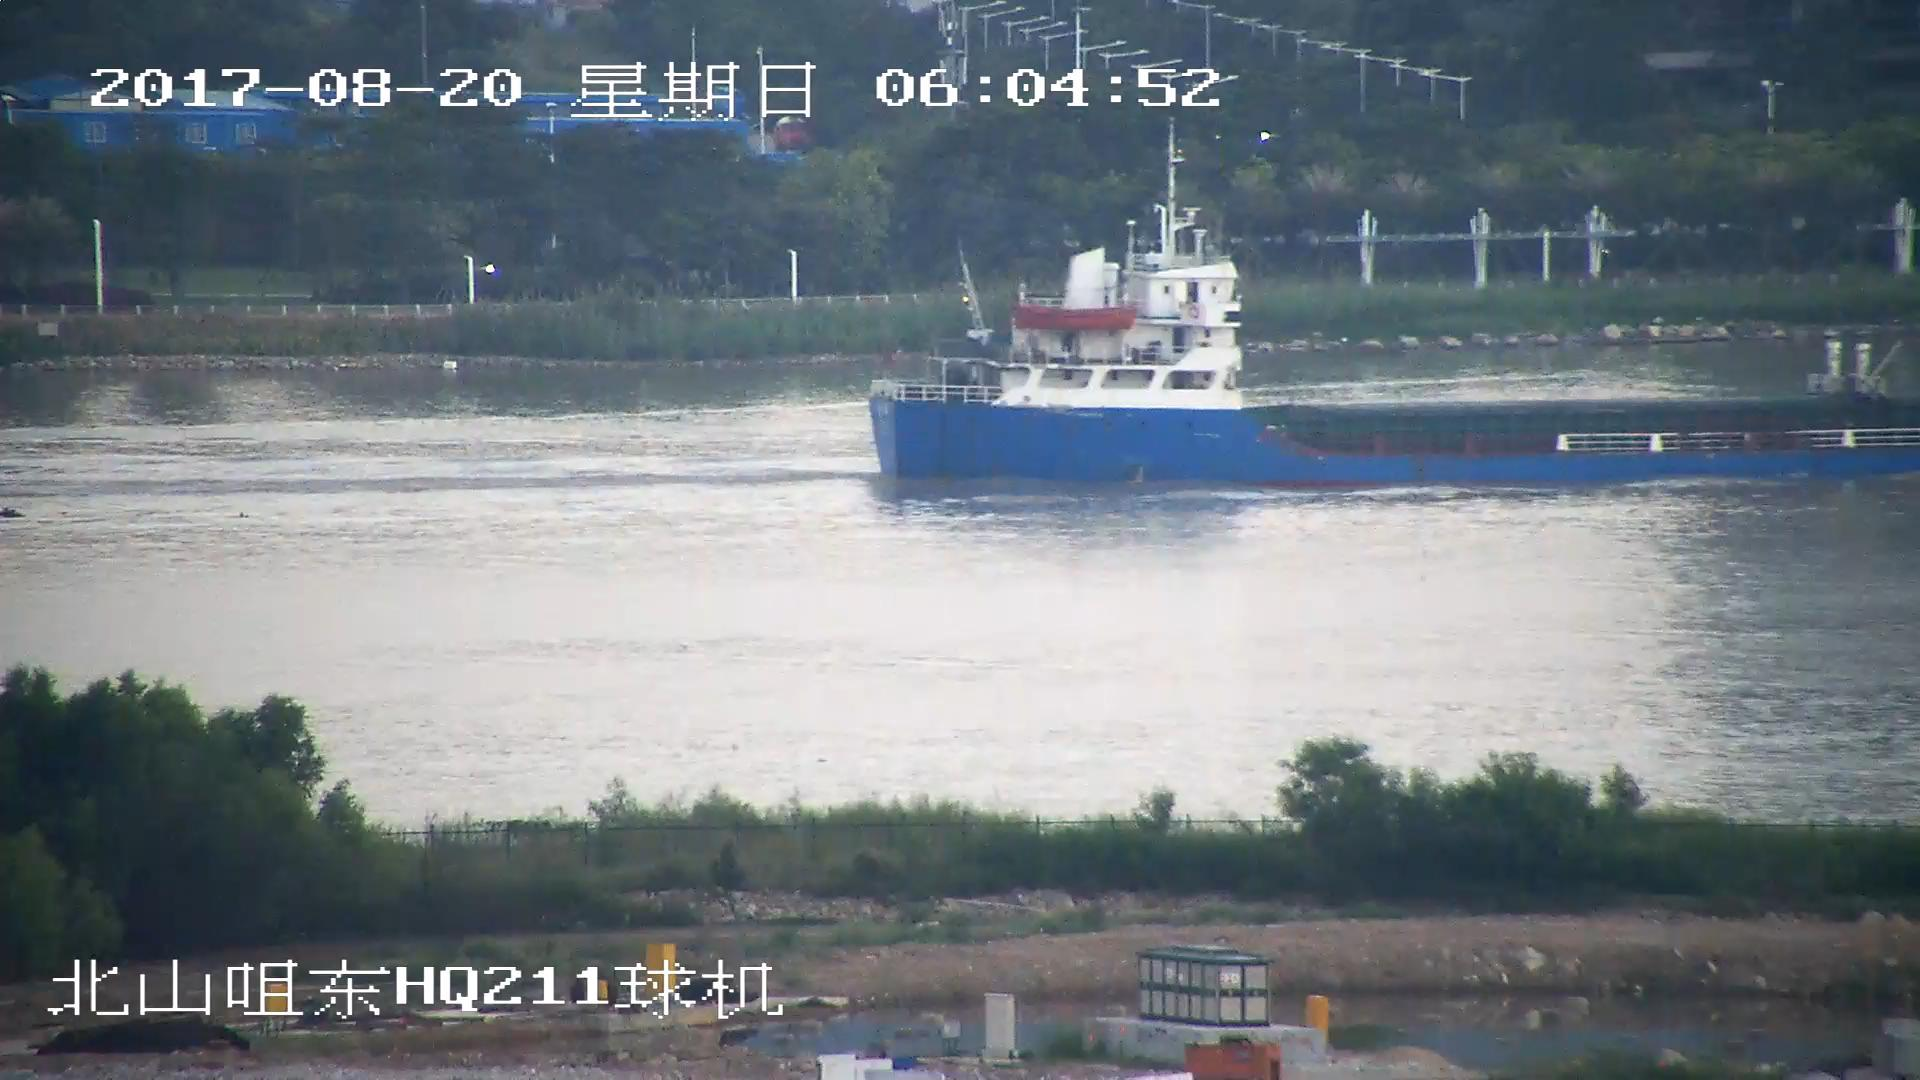Ship: (858, 207, 1920, 483)
